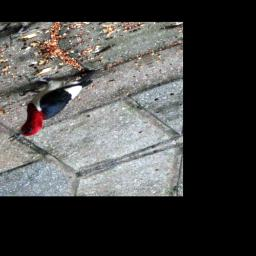Woodpecker: (0, 53, 121, 147)
